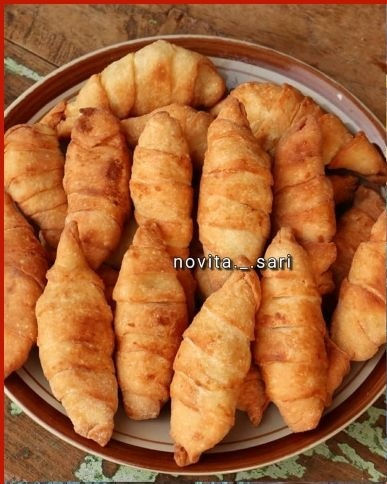pisang_molen: (171, 259, 263, 470), (33, 221, 118, 449), (114, 219, 189, 426), (257, 229, 330, 434), (197, 96, 268, 291)
